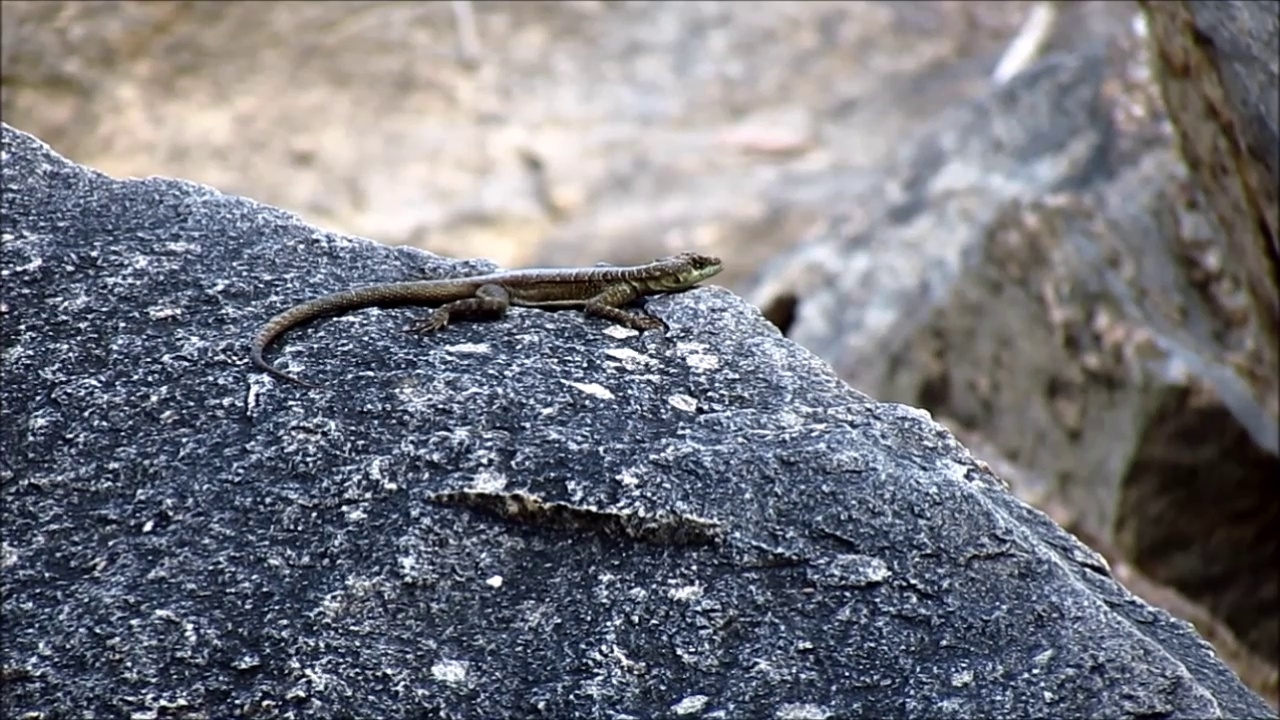body: (249, 263, 660, 385)
head: (648, 250, 724, 301)
